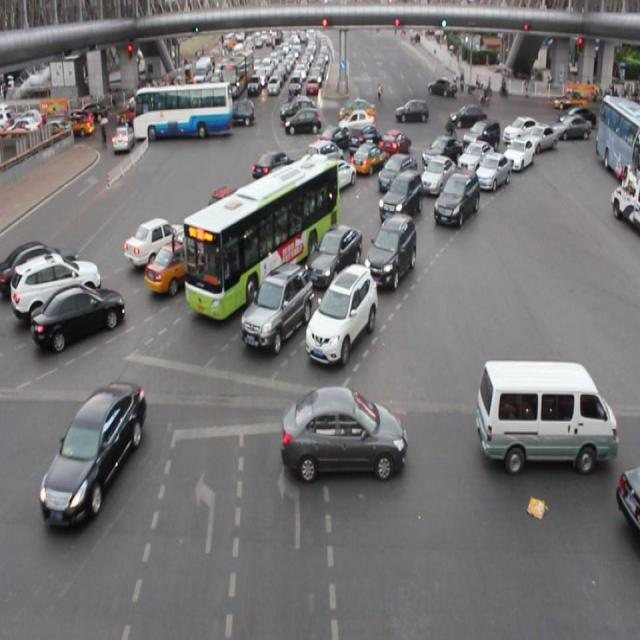car: (41, 380, 143, 530), (282, 386, 405, 478), (305, 263, 376, 364), (241, 264, 310, 351), (32, 284, 124, 348), (12, 253, 101, 317), (144, 238, 215, 293), (1, 240, 78, 290), (366, 212, 415, 288), (307, 224, 362, 287), (123, 216, 190, 264), (216, 212, 276, 258), (271, 184, 327, 232), (433, 171, 478, 225), (207, 186, 260, 230), (378, 168, 421, 222), (266, 166, 315, 209), (616, 466, 640, 544), (421, 134, 463, 173), (378, 153, 416, 192), (316, 157, 356, 191), (420, 155, 455, 193), (474, 152, 508, 191), (350, 139, 385, 176), (458, 140, 492, 176), (251, 152, 295, 178), (462, 120, 498, 150), (348, 125, 382, 156), (377, 129, 410, 160), (501, 137, 532, 168), (502, 116, 542, 140), (315, 126, 350, 153), (519, 127, 556, 150)
truck: (476, 358, 616, 468), (306, 141, 343, 175)
van: (185, 158, 338, 321)
